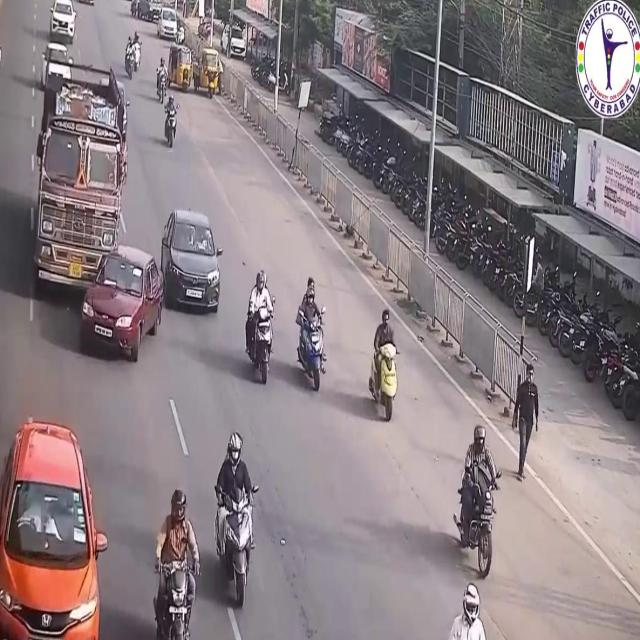accident: (33, 54, 163, 368)
non_accident: (130, 0, 186, 42), (121, 30, 143, 82)
